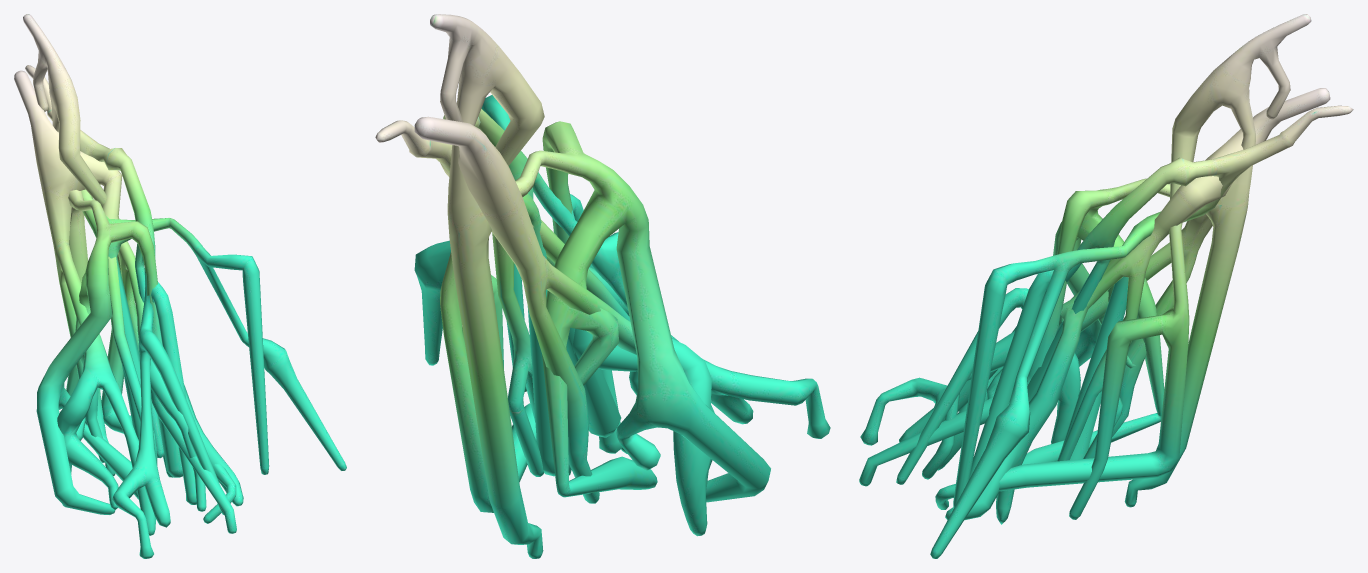
The model's file is Tied_Moss.fbx.
3 views of the same model, side by side, from view 1: azimuth 30°, elevation 25°; view 2: azimuth 150°, elevation 25°; view 3: azimuth 270°, elevation 25° (orthographic). The views are drawn at different scales.
Parts seen in each view (by area): view 1: Tied_Moss_3, Tied_Moss_2, Tied_Moss; view 2: Tied_Moss_2, Tied_Moss, Tied_Moss_3; view 3: Tied_Moss_2, Tied_Moss_3, Tied_Moss.
Part boxes in pixels (box(x1,y1,x2,y2)): Tied_Moss_3: box(25, 65, 346, 558); Tied_Moss_2: box(23, 14, 236, 533); Tied_Moss: box(14, 70, 243, 535); Tied_Moss_2: box(430, 14, 770, 558); Tied_Moss: box(414, 116, 714, 536); Tied_Moss_3: box(375, 95, 830, 476); Tied_Moss_2: box(859, 14, 1311, 519); Tied_Moss_3: box(860, 105, 1353, 558); Tied_Moss: box(922, 88, 1330, 524).
Bounding box in the file's own units: 518 × 790 × 727.
